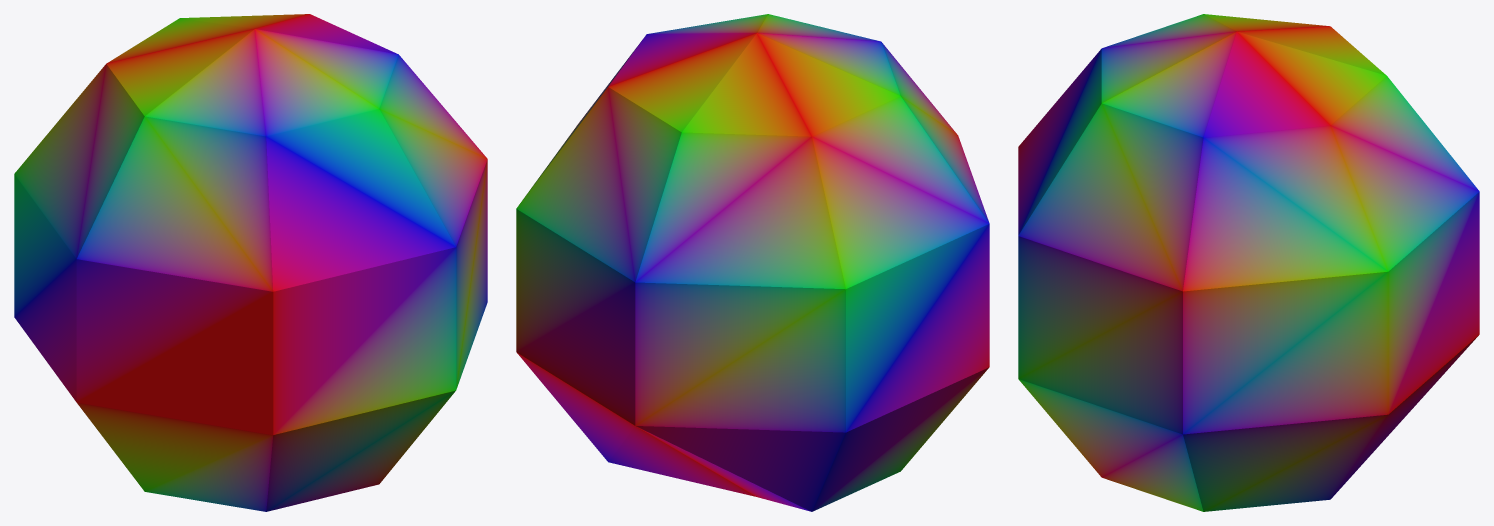
Rendered from all_19.obj.
3 views of the same model, side by side, from view 1: azimuth 30°, elevation 25°; view 2: azimuth 150°, elevation 25°; view 3: azimuth 270°, elevation 25° (orthographic).
Bounding box in the file's own units: 1.85 × 2 × 1.81.
